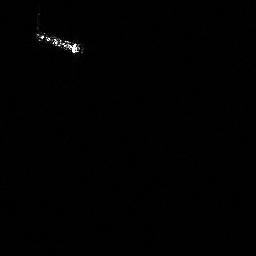ship: (38, 34, 81, 54)
